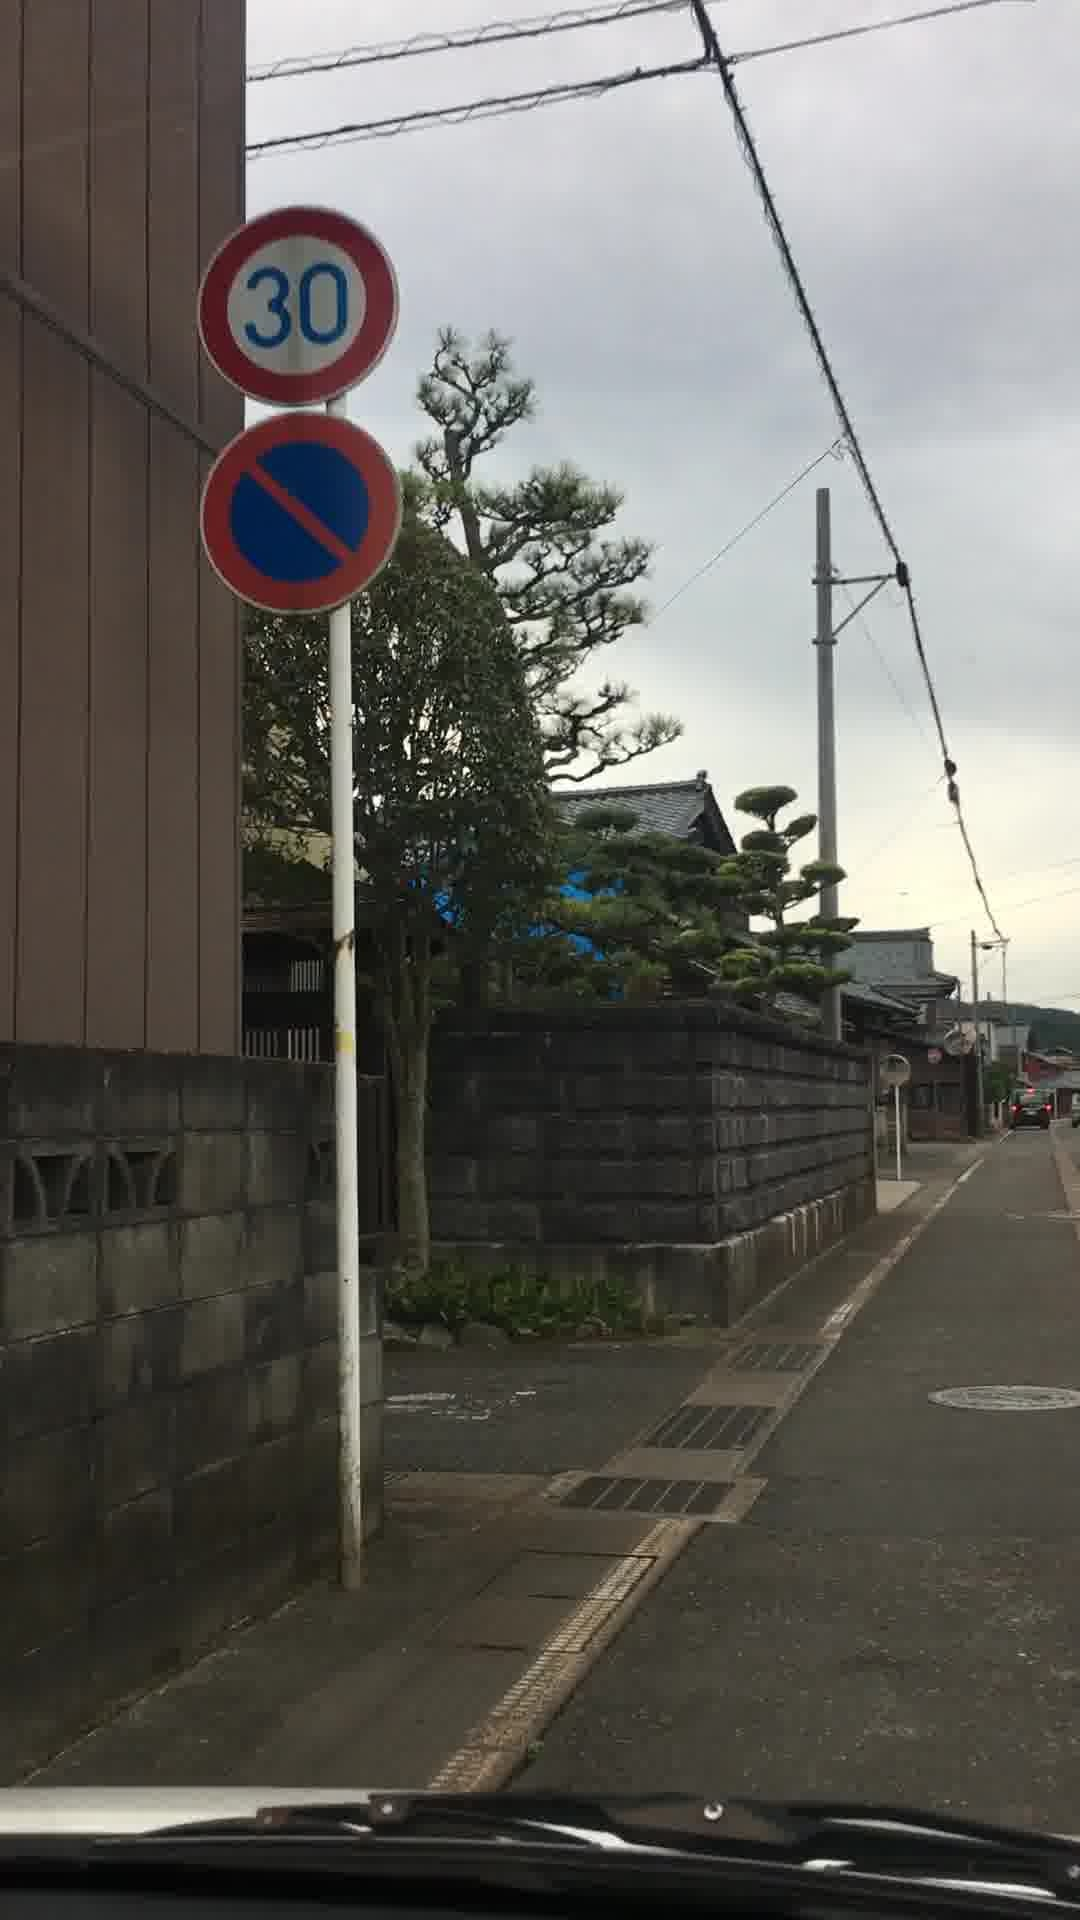Prohibition_sign: (202, 402, 438, 596)
Speed_sign: (193, 206, 436, 396)
